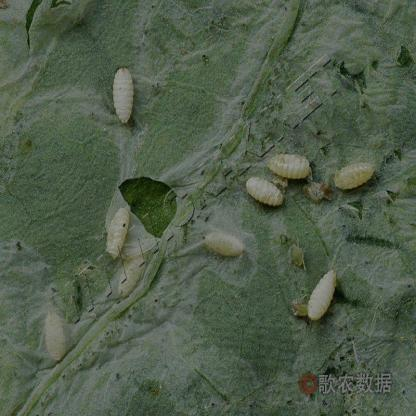whorl-maggot: (303, 256, 340, 329), (332, 156, 387, 199), (106, 62, 142, 124), (244, 168, 289, 214), (203, 228, 249, 267), (267, 149, 314, 181), (43, 312, 66, 360)
